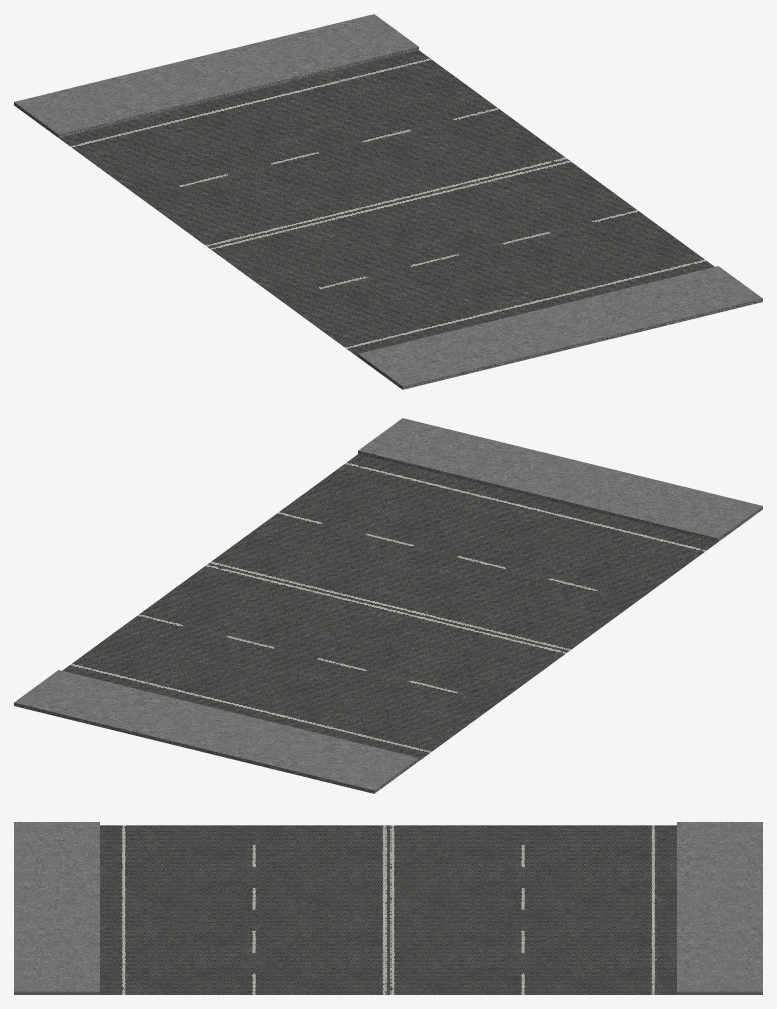
File: Highway_Straight.glb
3 views of the same model, one above another, from view 1: azimuth 30°, elevation 25°; view 2: azimuth 150°, elevation 25°; view 3: azimuth 270°, elevation 25° (orthographic). The views are drawn at different scales.
Parts seen in each view (by area): view 1: Highway_Straight; view 2: Highway_Straight; view 3: Highway_Straight.
Boxes of the visible parts, left/top/right/bottom form: Highway_Straight: left=14, top=14, right=762, bottom=389; Highway_Straight: left=14, top=418, right=762, bottom=793; Highway_Straight: left=14, top=822, right=762, bottom=994.
Bounding box in the file's own units: 13 × 0.1182 × 24.29.
2 materials, 2 textured.
